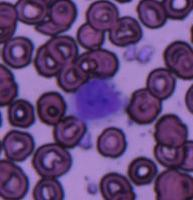L: (71, 76, 128, 123)
